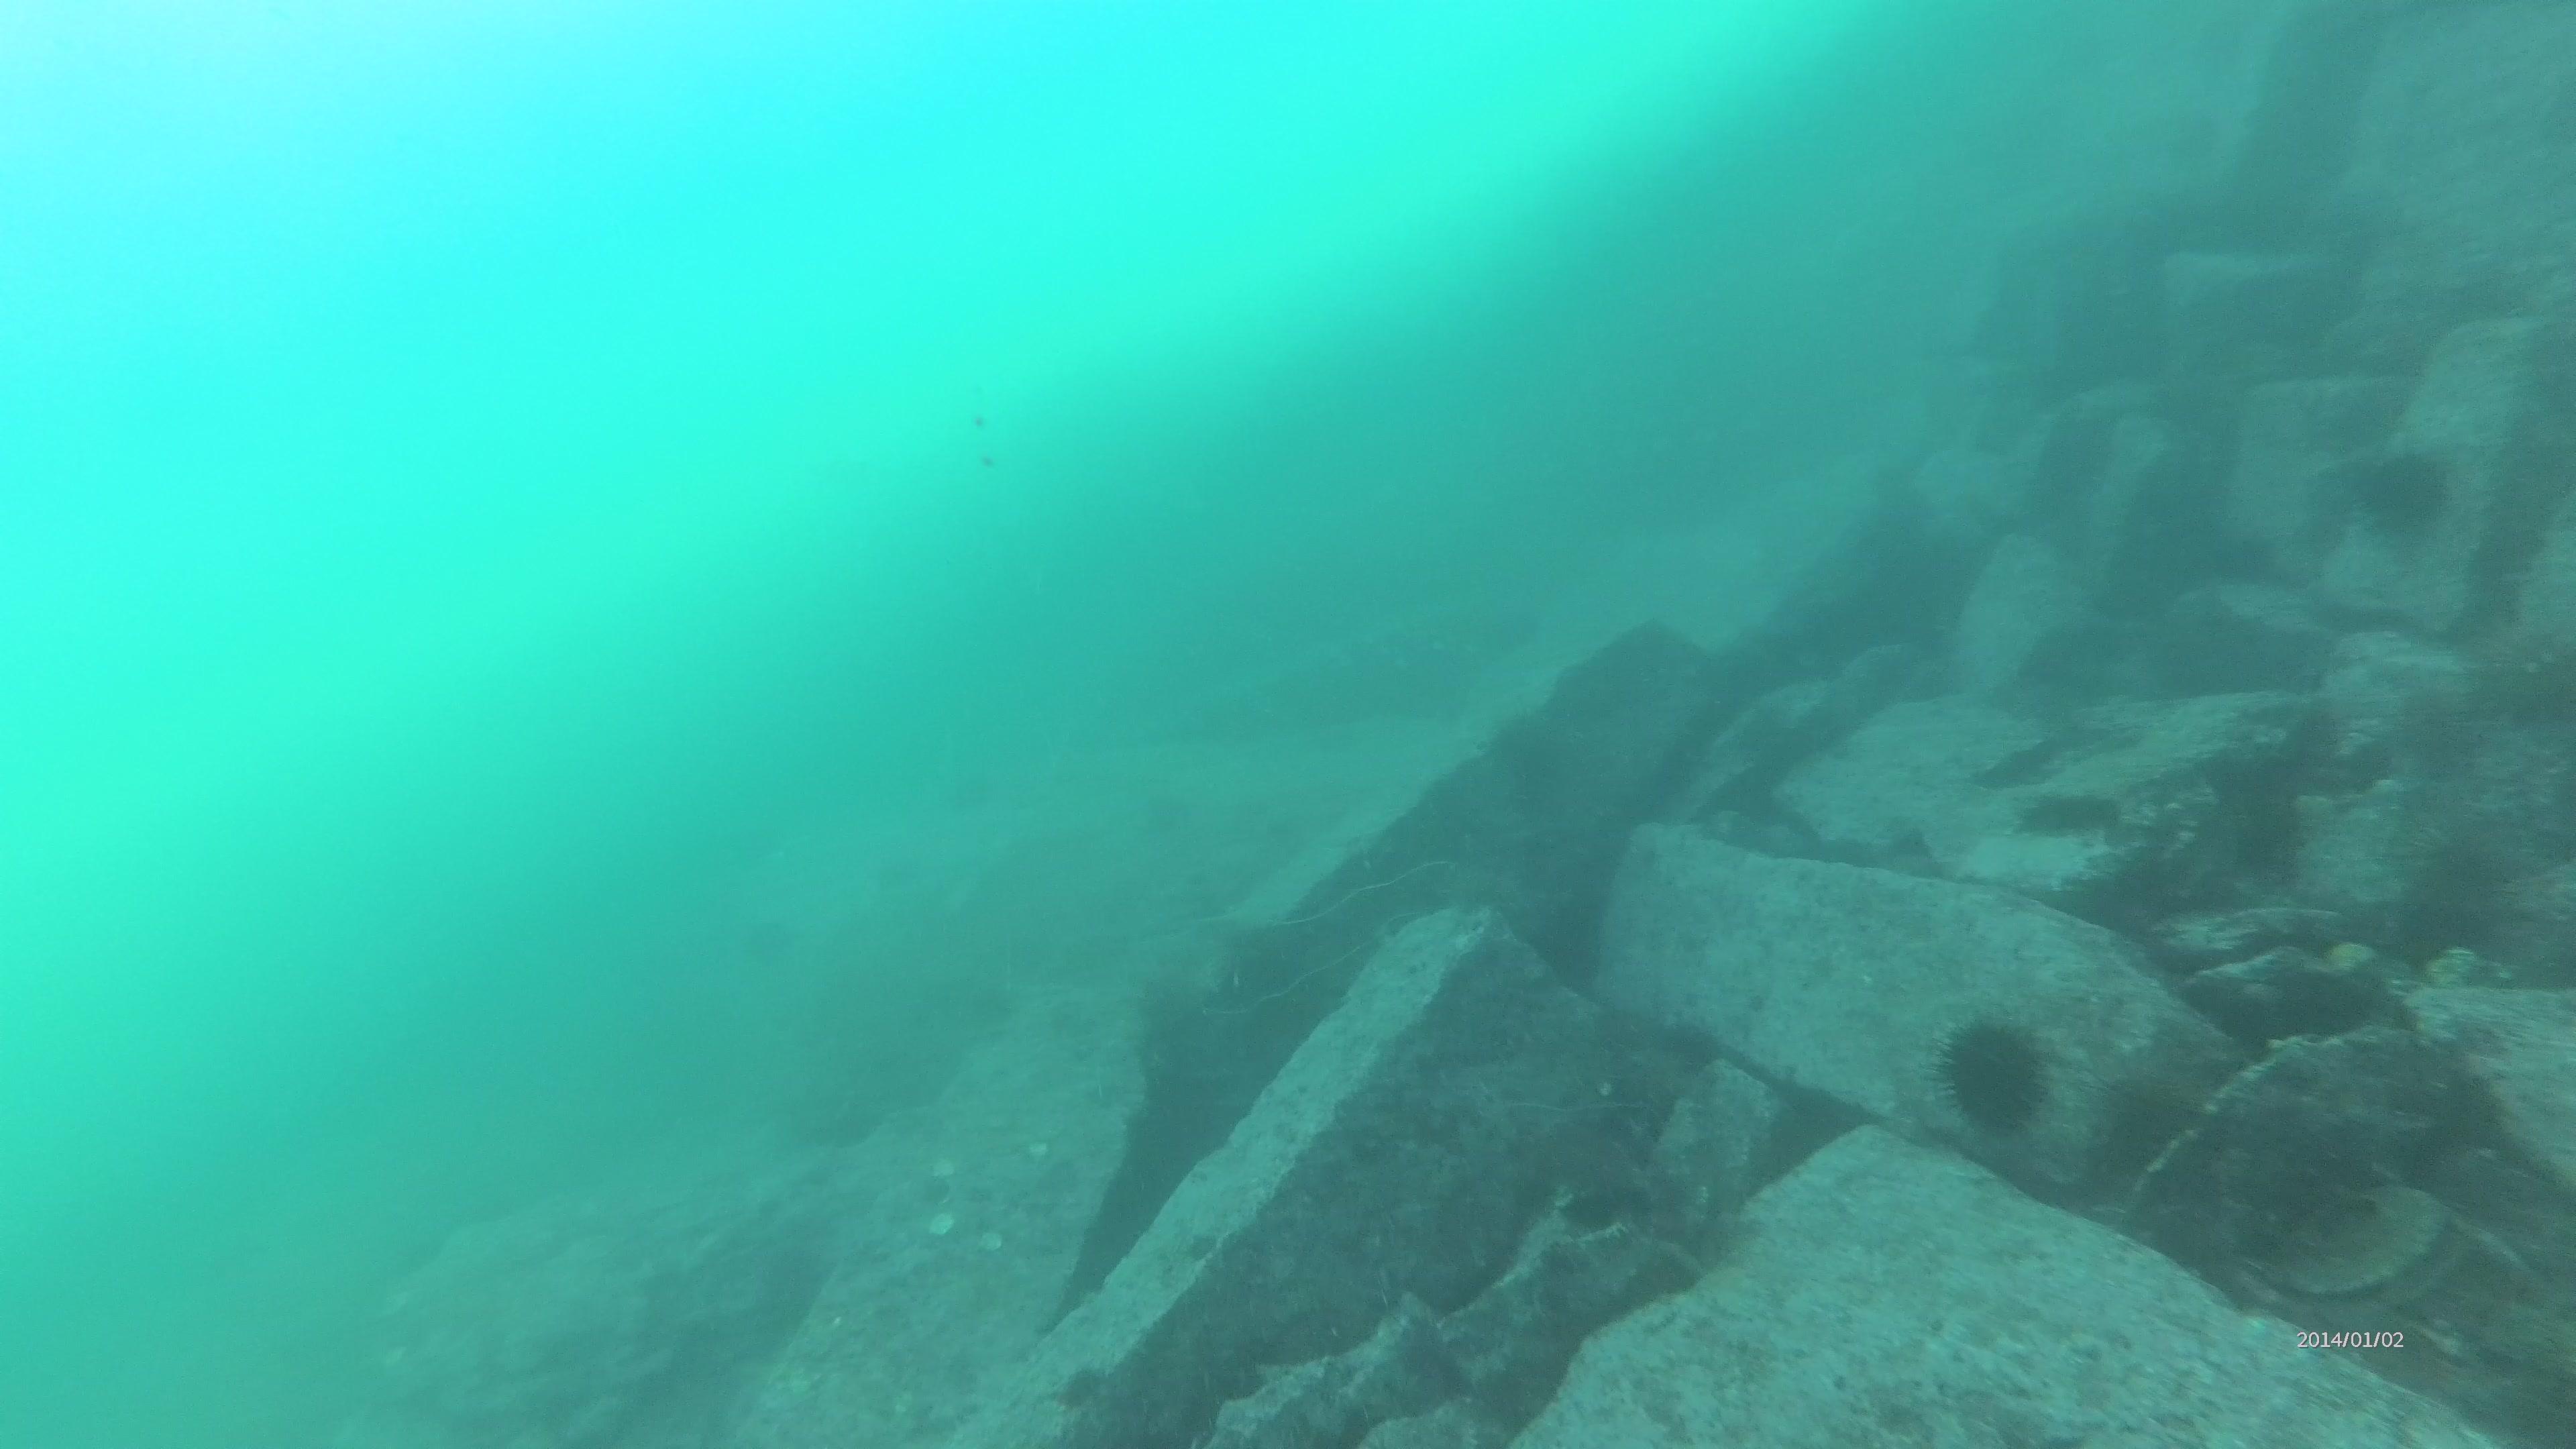echinus: (1943, 1014, 2056, 1138), (2362, 453, 2445, 545), (2013, 794, 2121, 837)
